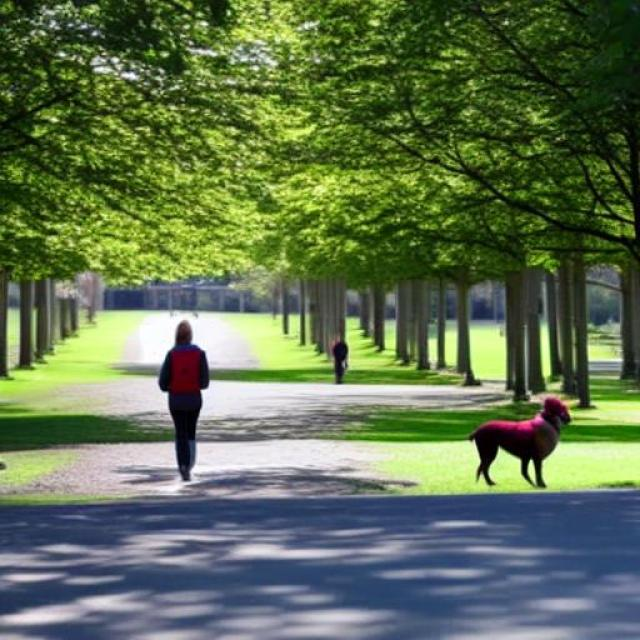Unleashed_Dog: (168, 386, 574, 488)
